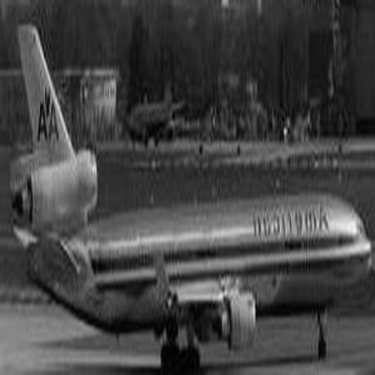airplane: (4, 5, 368, 371)
